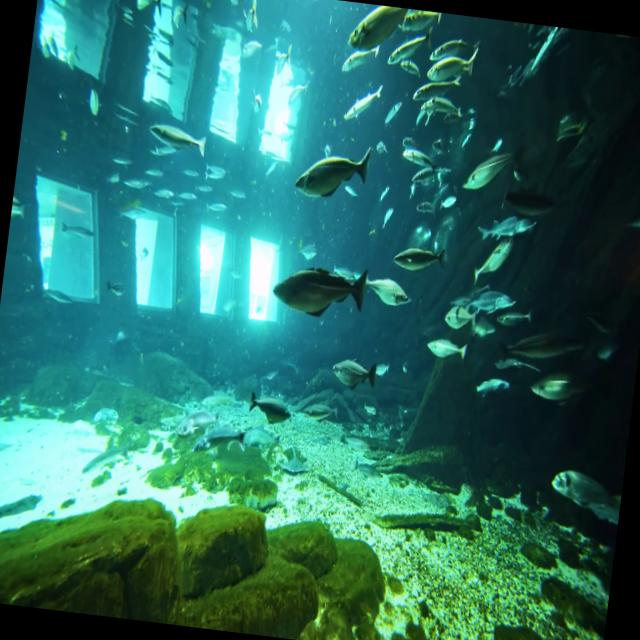fish: (278, 136, 380, 217), (456, 122, 526, 210), (127, 105, 212, 169), (334, 0, 417, 65), (543, 454, 623, 520), (476, 188, 548, 258), (528, 353, 600, 418), (422, 27, 486, 94), (336, 60, 392, 134), (387, 226, 456, 286), (236, 381, 305, 430), (361, 269, 421, 320), (409, 336, 475, 377), (329, 351, 383, 398), (382, 26, 430, 78), (462, 366, 509, 414), (464, 242, 512, 287), (125, 0, 173, 22)
